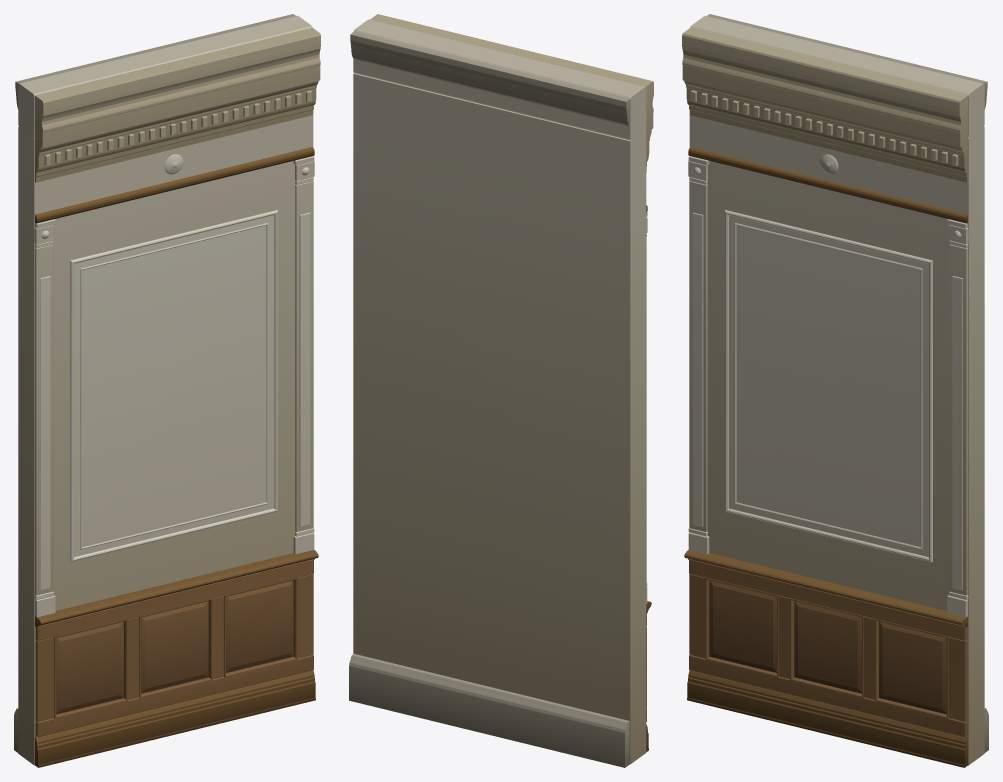
The model's file is library-wall-panel.glb.
3 views of the same model, side by side, from view 1: azimuth 30°, elevation 25°; view 2: azimuth 150°, elevation 25°; view 3: azimuth 330°, elevation 25° (orthographic).
Parts seen in each view (by area): view 1: library_wall_panel; view 2: library_wall_panel; view 3: library_wall_panel.
Part boxes in pixels (x1=…): library_wall_panel: x1=14, y1=14, x2=320, y2=767; library_wall_panel: x1=349, y1=14, x2=653, y2=767; library_wall_panel: x1=682, y1=14, x2=988, y2=767.
Bounding box in the file's own units: 2 × 4.6 × 0.3619.
